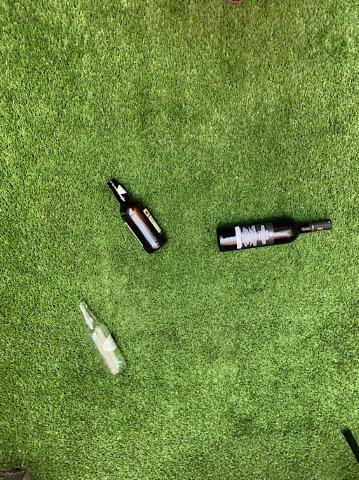botolkaca: (105, 179, 167, 253), (218, 217, 333, 251), (77, 301, 125, 375)
